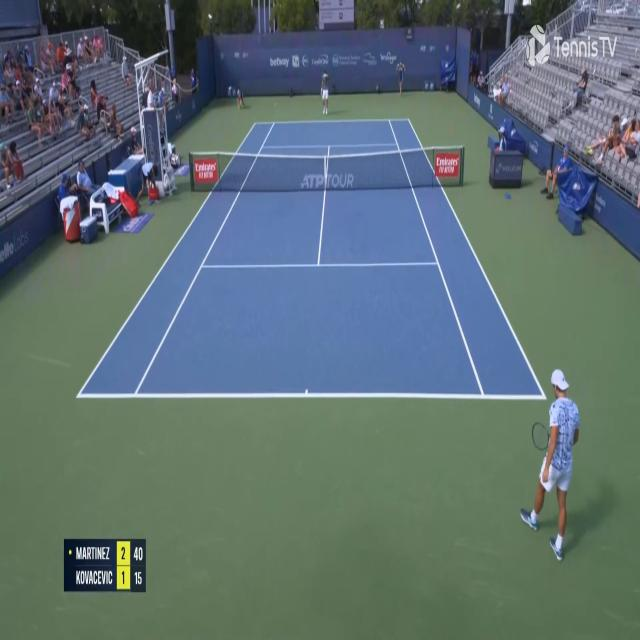tennis-player: (518, 364, 584, 566), (321, 70, 334, 116)
